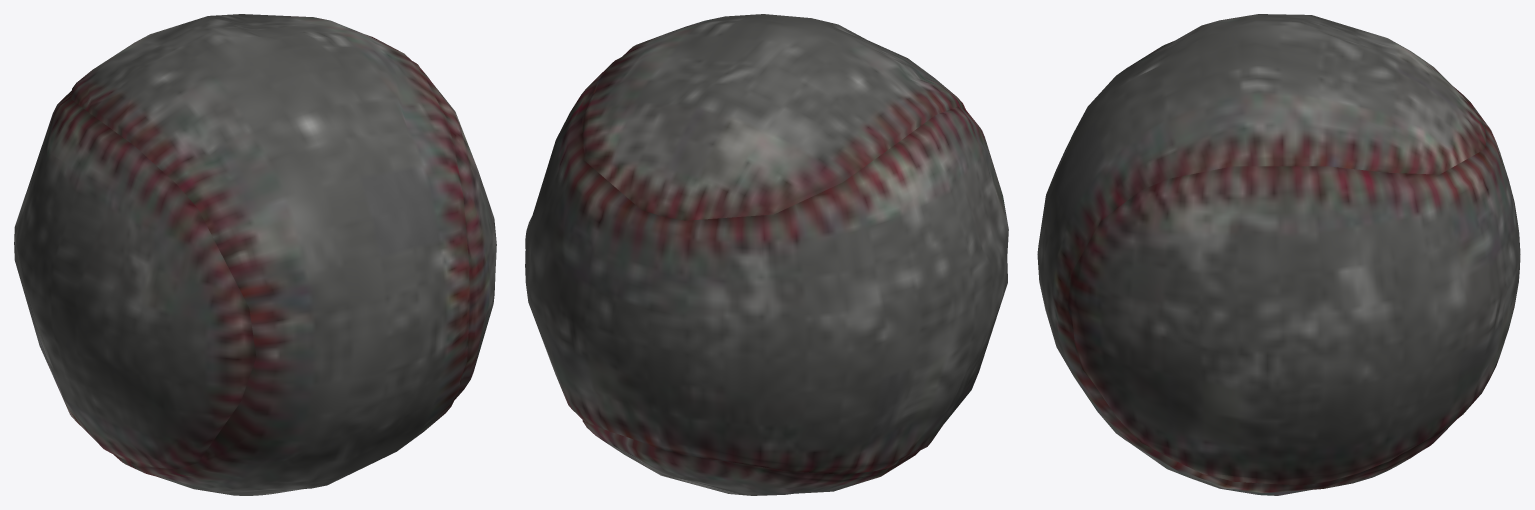
Rendered from baseball_01.glb.
3 views of the same model, side by side, from view 1: azimuth 30°, elevation 25°; view 2: azimuth 150°, elevation 25°; view 3: azimuth 270°, elevation 25° (orthographic).
Visible parts, largest first — view 1: baseball_01; view 2: baseball_01; view 3: baseball_01.
Boxes of the visible parts, x1,y1,x2,y2 form: baseball_01: (14, 14, 496, 495); baseball_01: (525, 14, 1008, 495); baseball_01: (1037, 14, 1520, 495).
Bounding box in the file's own units: 0.0735 × 0.075 × 0.0752.
Materials: 1 (1 with a texture image).
